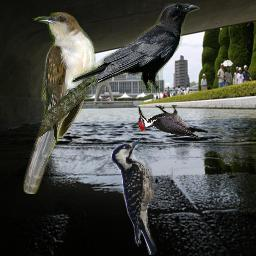Crow: (71, 3, 200, 93)
Cuckoo: (23, 12, 96, 194)
Woodpecker: (110, 137, 173, 255), (138, 105, 208, 139)
